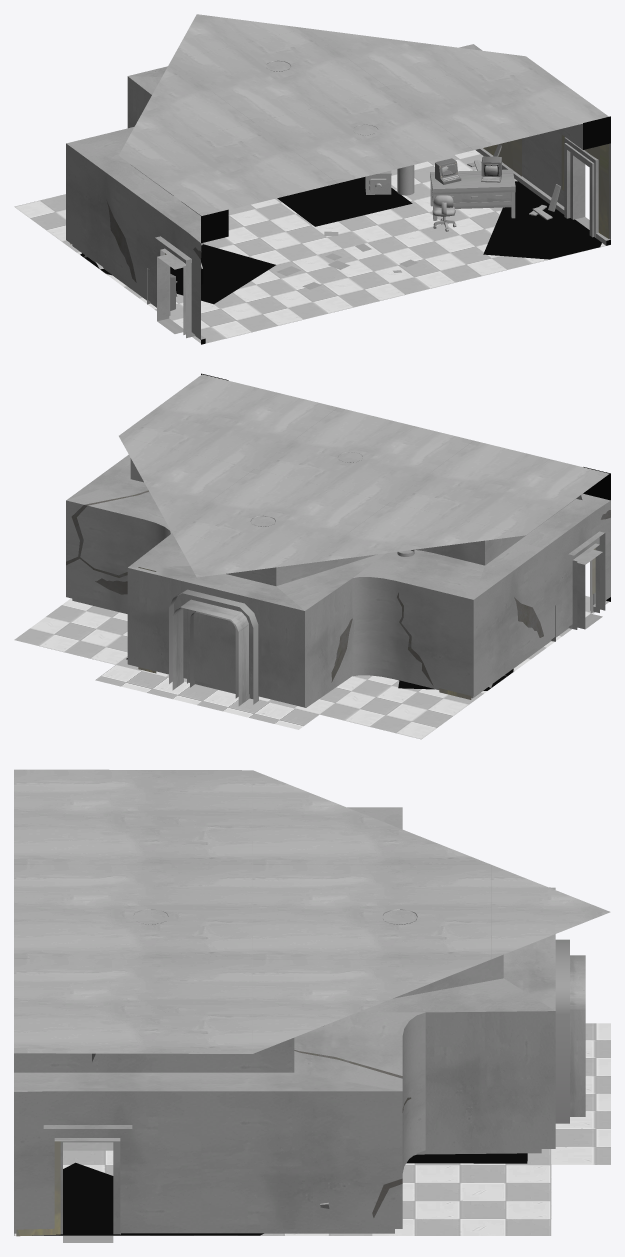
Rendered from MSH_QuestObservatory_L2_R2_optimized.fbx.
The picture shows the model from 3 angles, top to bottom: view 1: azimuth 30°, elevation 25°; view 2: azimuth 150°, elevation 25°; view 3: azimuth 270°, elevation 25°; orthographic projection. The views are drawn at different scales.
Parts seen in each view (by area): view 1: lightmap0, lightmap5, lightmap8, MSH_QuestObservatory_L2_R2_Decals_01, lightmap2, lightmap3, lightmap1; view 2: lightmap8, lightmap0, lightmap5, lightmap1, lightmap2, MSH_QuestObservatory_L2_R2_Decals_01; view 3: lightmap0, lightmap8, lightmap5, lightmap1, MSH_QuestObservatory_L2_R2_Decals_01, lightmap2.
Part boxes in pixels (left/top/right/bottom): lightmap0: left=118, top=14, right=610, bottom=344; lightmap5: left=14, top=150, right=605, bottom=343; lightmap8: left=66, top=44, right=610, bottom=339; MSH_QuestObservatory_L2_R2_Decals_01: left=70, top=135, right=609, bottom=304; lightmap2: left=155, top=137, right=598, bottom=338; lightmap3: left=84, top=60, right=560, bottom=310; lightmap1: left=157, top=155, right=589, bottom=333; lightmap8: left=66, top=454, right=610, bottom=707; lightmap0: left=119, top=373, right=610, bottom=601; lightmap5: left=14, top=596, right=609, bottom=739; lightmap1: left=169, top=549, right=602, bottom=705; lightmap2: left=568, top=531, right=605, bottom=613; MSH_QuestObservatory_L2_R2_Decals_01: left=126, top=548, right=595, bottom=699; lightmap0: left=14, top=769, right=610, bottom=1053; lightmap8: left=14, top=807, right=555, bottom=1234; lightmap5: left=14, top=1023, right=610, bottom=1235; lightmap1: left=63, top=939, right=585, bottom=1242; MSH_QuestObservatory_L2_R2_Decals_01: left=16, top=1141, right=527, bottom=1236; lightmap2: left=43, top=1125, right=132, bottom=1234.
Bounding box in the file's own units: 20.59 × 6.04 × 17.42.
